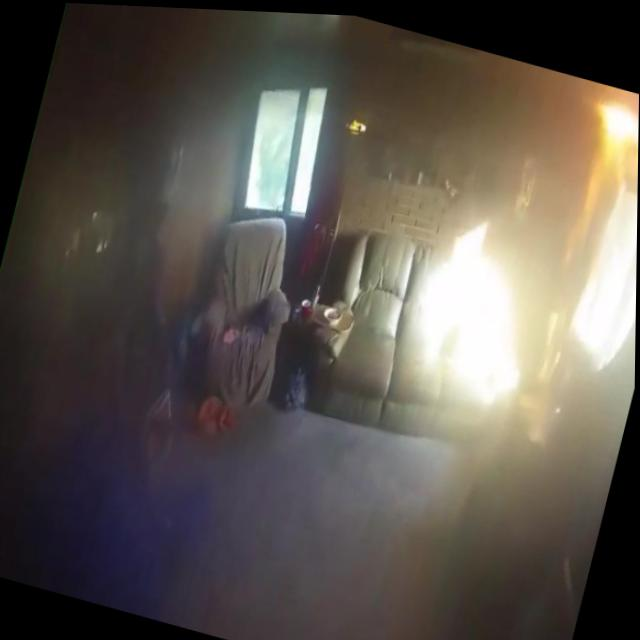fire: (578, 83, 639, 193)
